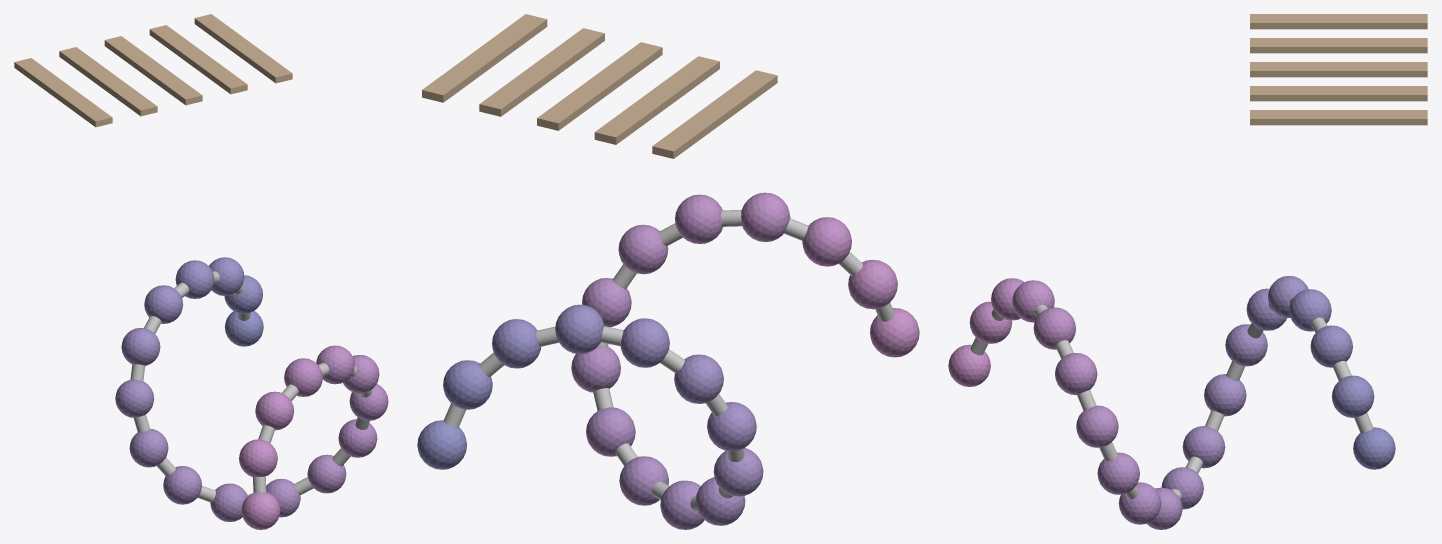
File: protein_structure.glb
The picture shows the model from 3 angles, left to right: view 1: azimuth 30°, elevation 25°; view 2: azimuth 150°, elevation 25°; view 3: azimuth 270°, elevation 25°; orthographic projection. The views are drawn at different scales.
Visible parts, largest first — view 1: world; view 2: world; view 3: world.
Boxes of the visible parts, x1=… form: world: x1=14, y1=14, x2=388, y2=529; world: x1=417, y1=14, x2=919, y2=529; world: x1=948, y1=14, x2=1427, y2=529.
Size of the model in its own units: 3.95 by 6.82 by 6.75.
